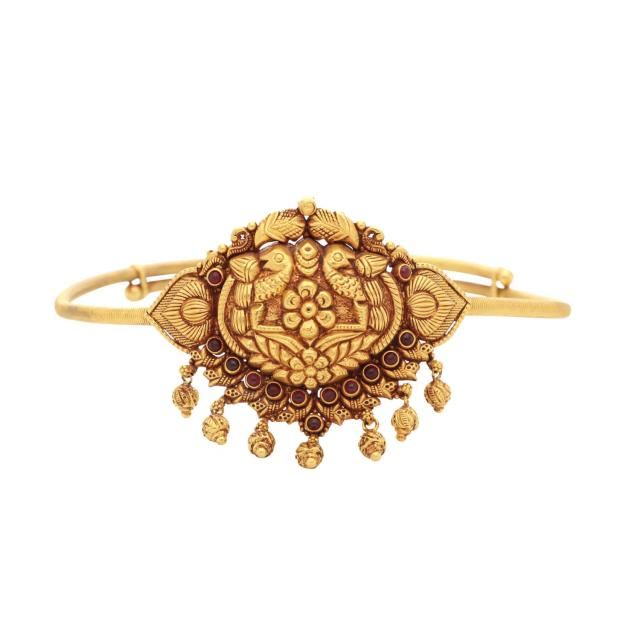missing gem: (301, 201, 314, 214)
